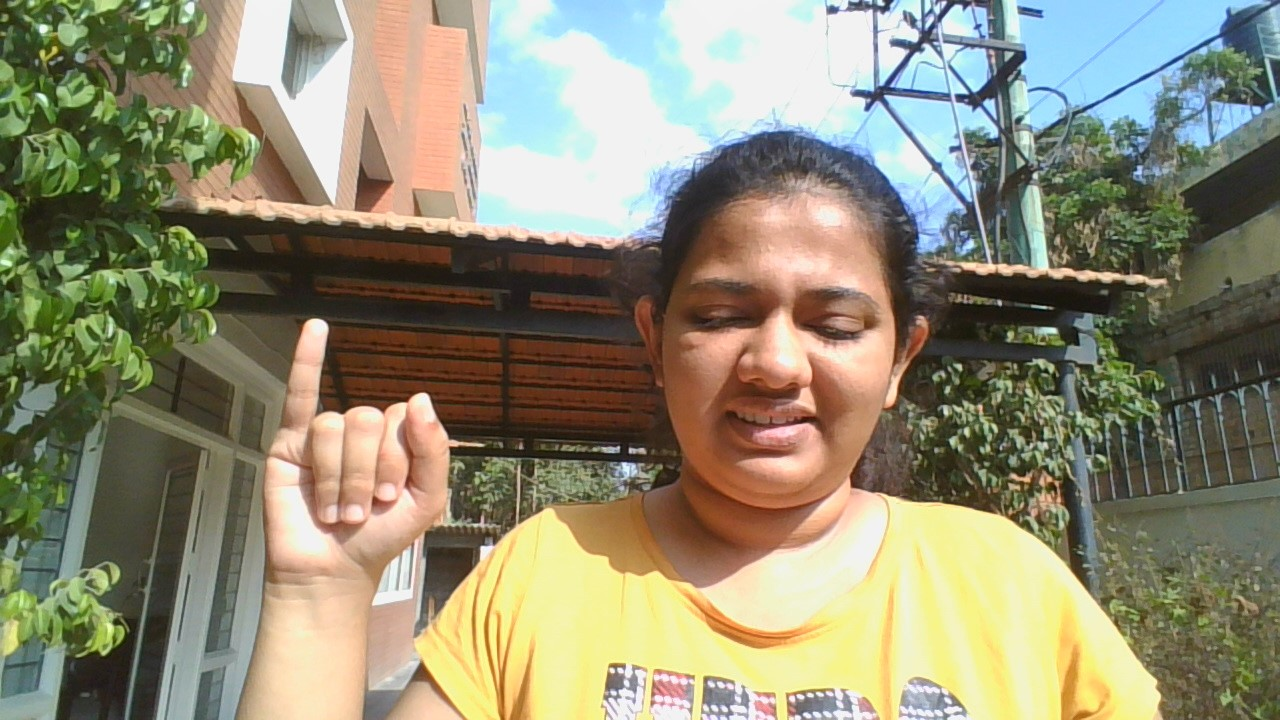i: (239, 305, 465, 625)
